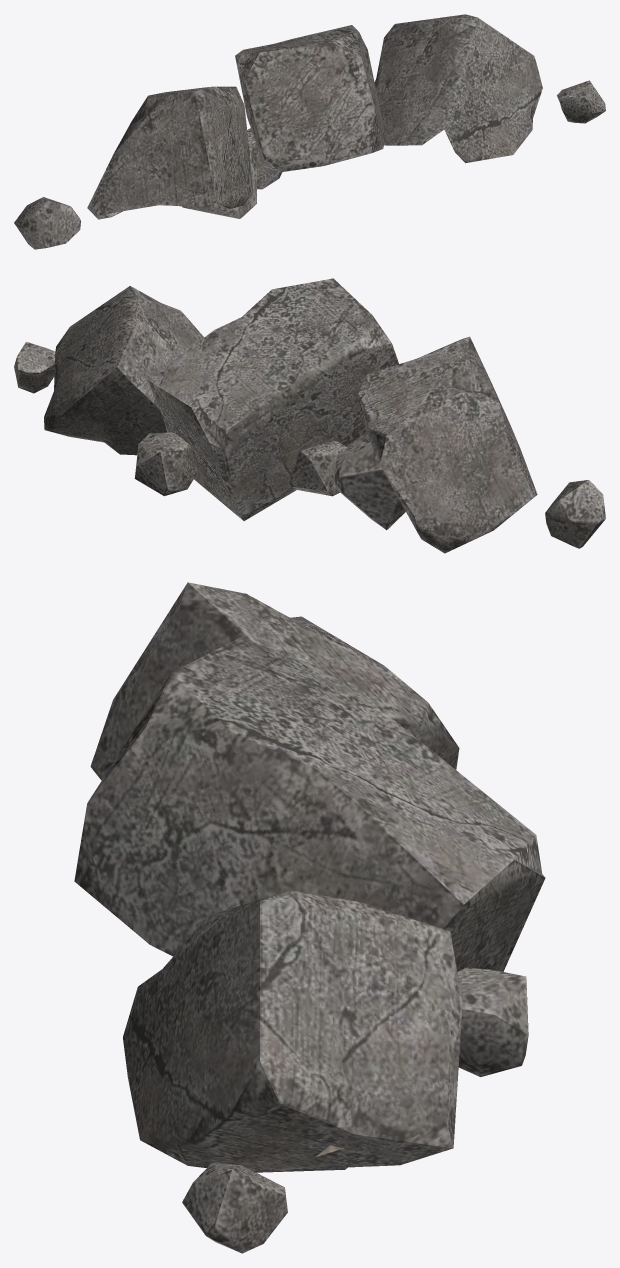
The picture shows the model from 3 angles, top to bottom: view 1: azimuth 30°, elevation 25°; view 2: azimuth 150°, elevation 25°; view 3: azimuth 270°, elevation 25°; orthographic projection. The views are drawn at different scales.
Parts seen in each view (by area): view 1: SM_Rubble05_LOD0; view 2: SM_Rubble05_LOD0; view 3: SM_Rubble05_LOD0.
Boxes of the visible parts, x1,y1,x2,y2 form: SM_Rubble05_LOD0: [14, 14, 605, 249]; SM_Rubble05_LOD0: [14, 278, 605, 553]; SM_Rubble05_LOD0: [74, 582, 545, 1253].
Size of the model in its own units: 1.57 by 0.4762 by 0.5647.
1 material, 1 textured.
